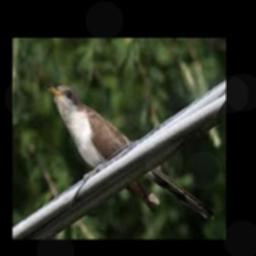Cuckoo: (45, 85, 213, 218)
